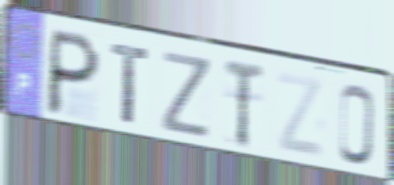0: (338, 82, 376, 167)
P: (43, 26, 103, 120)
T: (223, 56, 266, 151), (109, 40, 152, 128)
Z: (160, 48, 214, 143), (274, 68, 326, 162)
